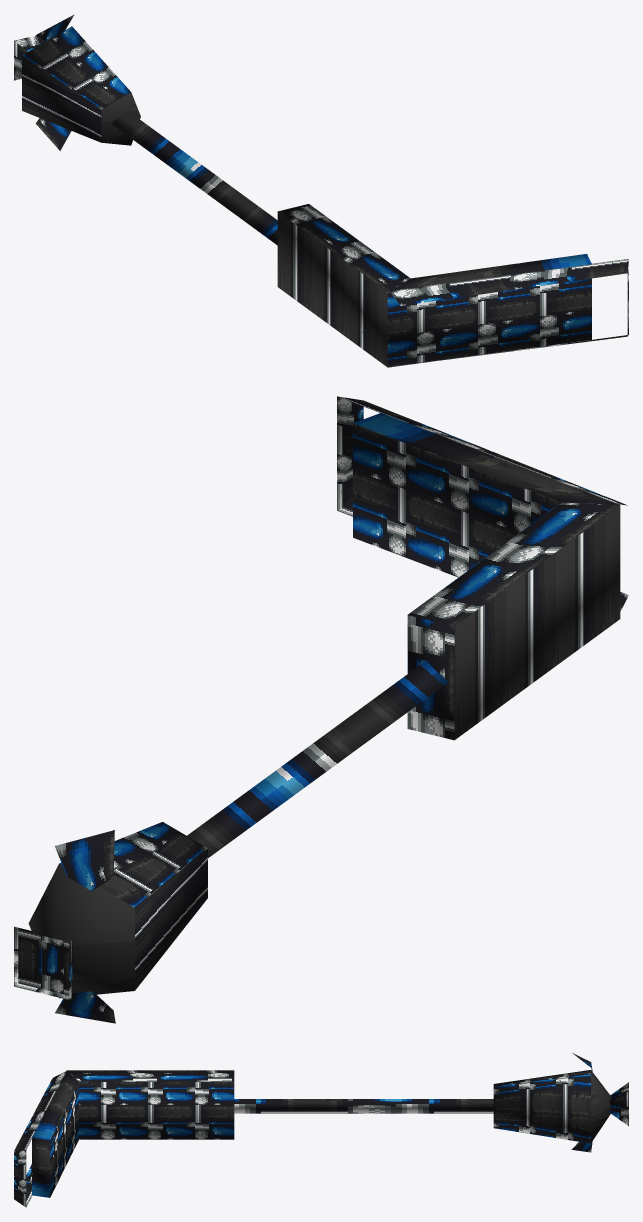
File: 2708sbim03_01.gltf
3 renders of one model, top to bottom at view 1: azimuth 30°, elevation 25°; view 2: azimuth 150°, elevation 25°; view 3: azimuth 270°, elevation 25°, orthographic. The views are drawn at different scales.
Visible parts, largest first — view 1: 2708sbim03_01; view 2: 2708sbim03_01; view 3: 2708sbim03_01.
Part boxes in pixels (bbox=[...]): 2708sbim03_01: bbox=[14, 14, 628, 367]; 2708sbim03_01: bbox=[14, 396, 628, 1023]; 2708sbim03_01: bbox=[14, 1053, 628, 1207].
Bounding box in the file's own units: 0.731 × 0.3789 × 2.16.
Materials: 1 (1 with a texture image).
